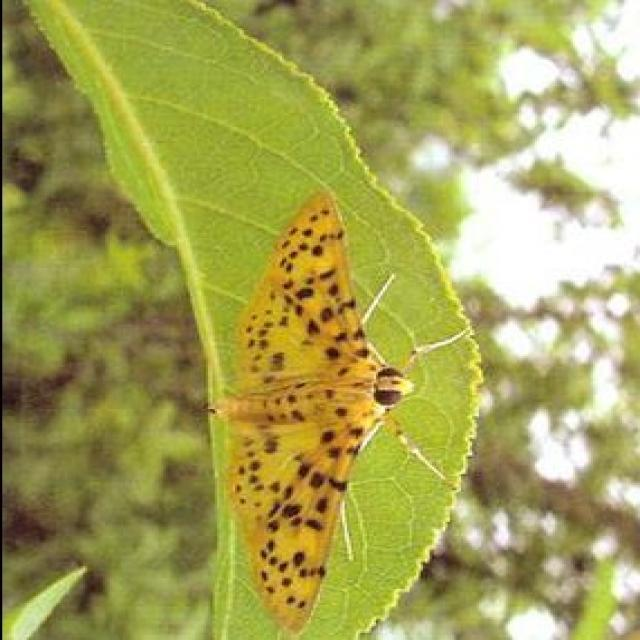peach borer: (209, 192, 420, 640)
